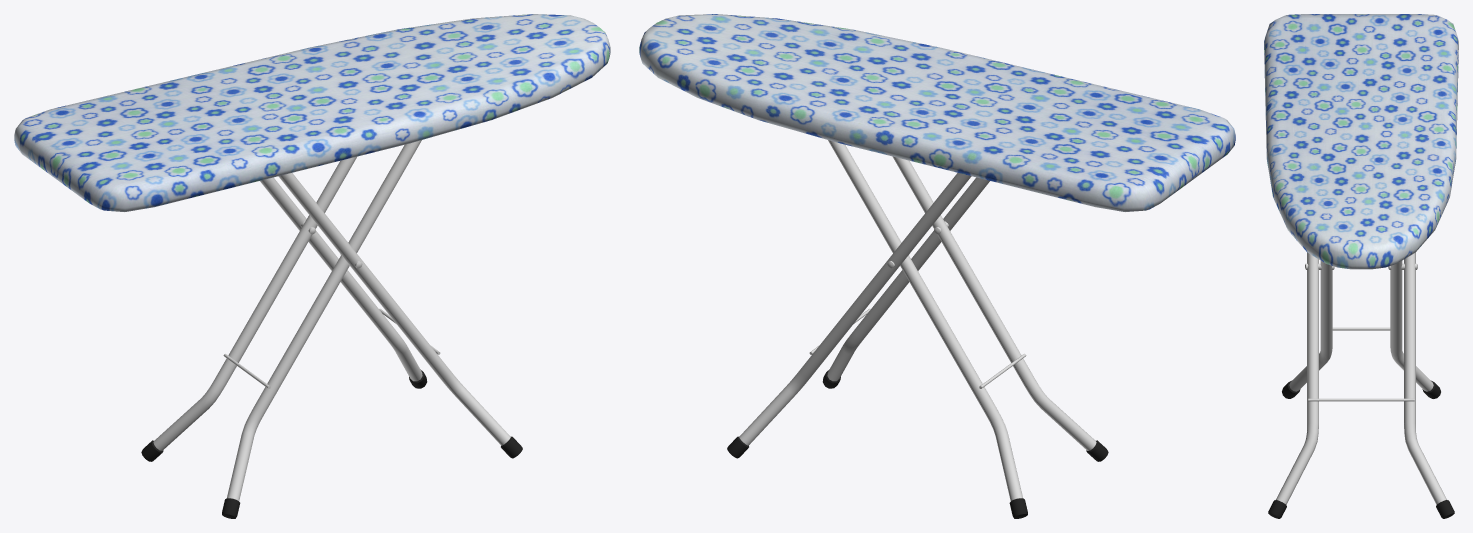
Rendered from ironing_board_blue.FBX.
3 renders of one model, left to right at view 1: azimuth 30°, elevation 25°; view 2: azimuth 150°, elevation 25°; view 3: azimuth 270°, elevation 25°, orthographic. The views are drawn at different scales.
Parts seen in each view (by area): view 1: ironing_board_blueish; view 2: ironing_board_blueish; view 3: ironing_board_blueish.
Boxes of the visible parts, <box> form: ironing_board_blueish: <box>14,14,610,518</box>; ironing_board_blueish: <box>639,14,1235,518</box>; ironing_board_blueish: <box>1264,14,1458,518</box>.
Bounding box in the file's own units: 142 × 91.11 × 48.95.
Materials: 1 (1 with a texture image).
